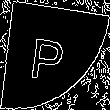P_N: (35, 27, 75, 83)
